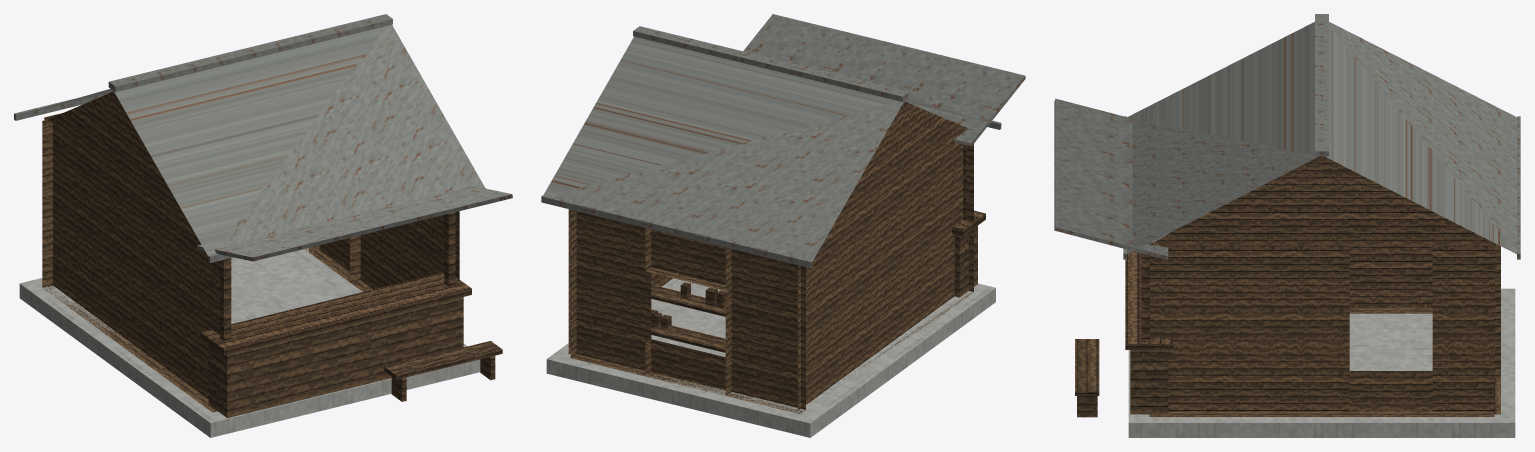
The model's file is building.shop.warung.glb.
3 renders of one model, left to right at view 1: azimuth 30°, elevation 25°; view 2: azimuth 150°, elevation 25°; view 3: azimuth 270°, elevation 25°, orthographic. The views are drawn at different scales.
Visible parts, largest first — view 1: building.shop.warung; view 2: building.shop.warung; view 3: building.shop.warung.
Boxes of the visible parts, left/top/right/bottom form: building.shop.warung: left=14, top=14, right=512, bottom=437; building.shop.warung: left=541, top=14, right=1025, bottom=437; building.shop.warung: left=1054, top=14, right=1520, bottom=437.
Size of the model in its own units: 4.7 by 4.61 by 6.75.
6 materials, 6 textured.
